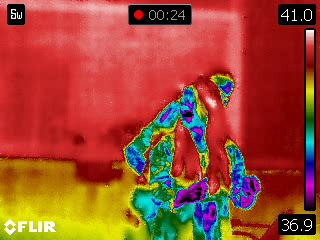human: (119, 69, 241, 200), (163, 79, 261, 240)
